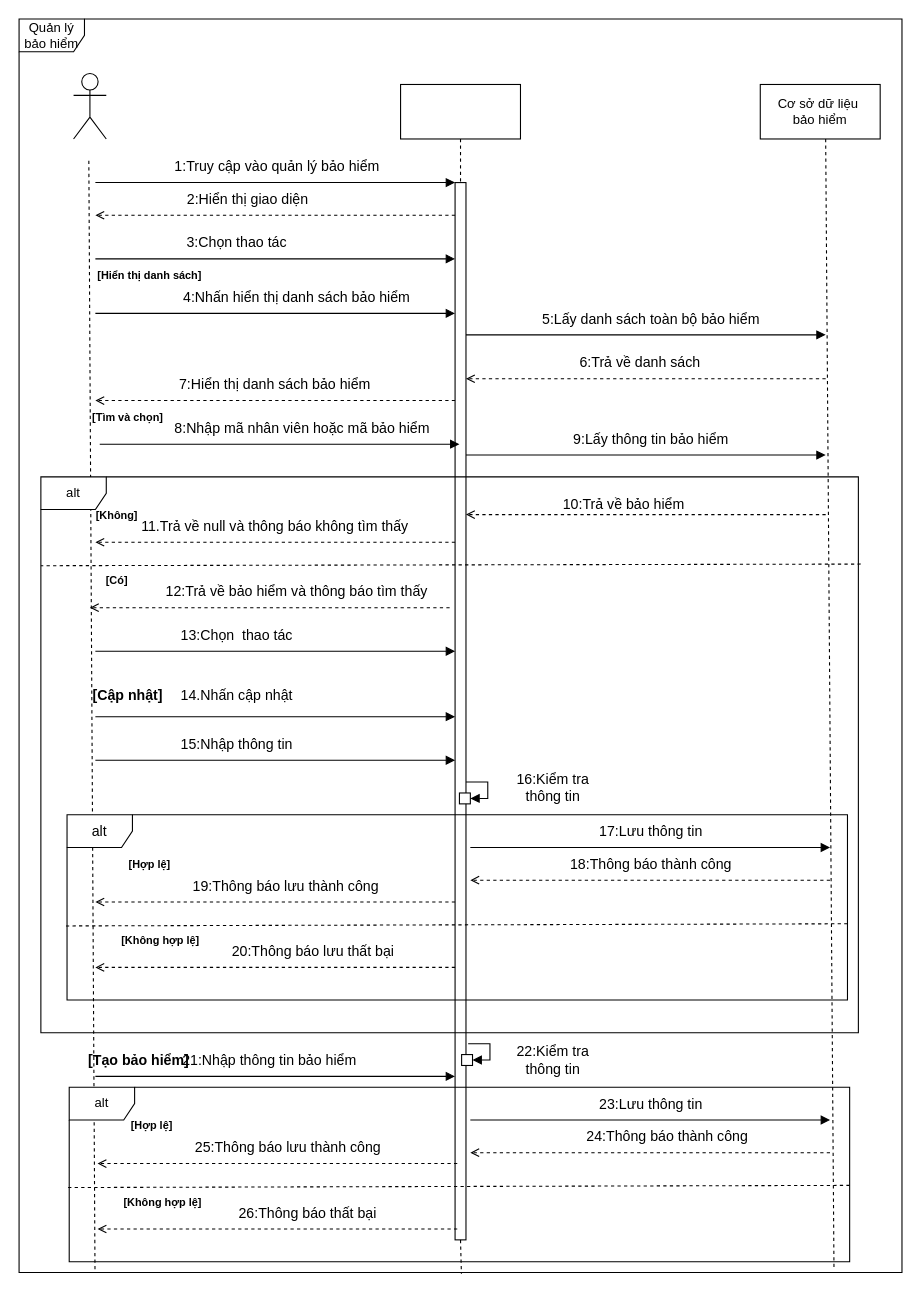
This 921x1295 diagram has some shape labels left out. The box of each missing label's shape, as (x1, y1, x2, y2) in pixels:
HR: (72, 72, 106, 139)
Hệ thống: (399, 83, 520, 139)
